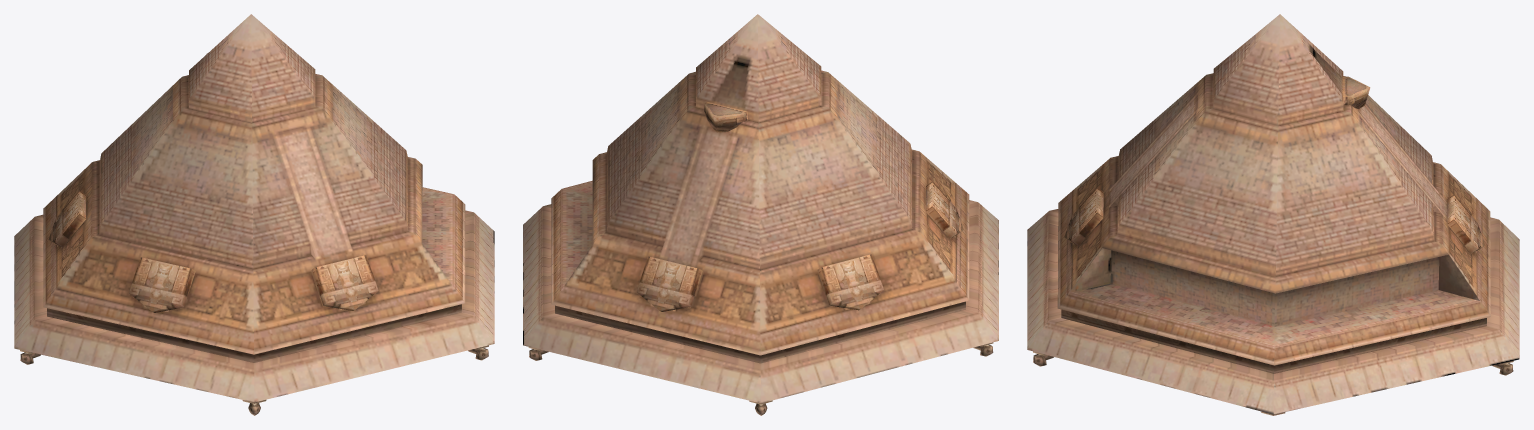
Rendered from Piramide.obj.
3 views of the same model, side by side, from view 1: azimuth 30°, elevation 25°; view 2: azimuth 150°, elevation 25°; view 3: azimuth 270°, elevation 25° (orthographic). The views are drawn at different scales.
Parts seen in each view (by area): view 1: SouvenirSand1__BodyMT; view 2: SouvenirSand1__BodyMT; view 3: SouvenirSand1__BodyMT.
Part boxes in pixels (<box>): SouvenirSand1__BodyMT: <box>14,14,494,415</box>; SouvenirSand1__BodyMT: <box>523,14,998,415</box>; SouvenirSand1__BodyMT: <box>1027,14,1519,415</box>.
Bounding box in the file's own units: 2.17 × 1.28 × 1.88.
Materials: 1 (1 with a texture image).
